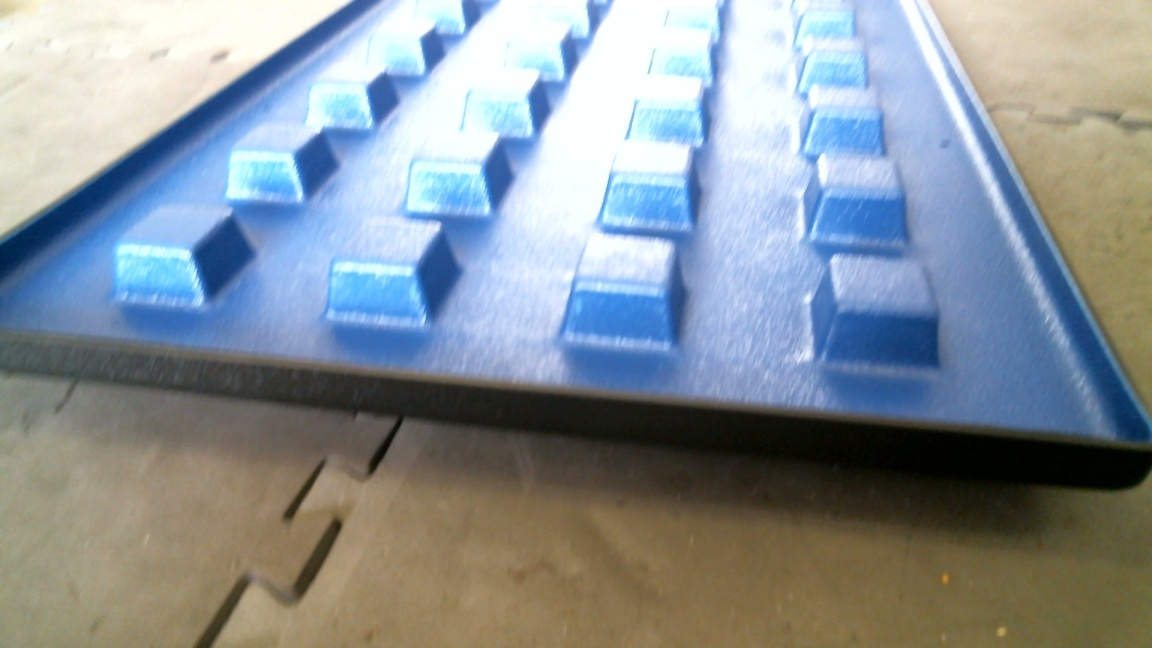blue_foundation: (34, 1, 1150, 504)
